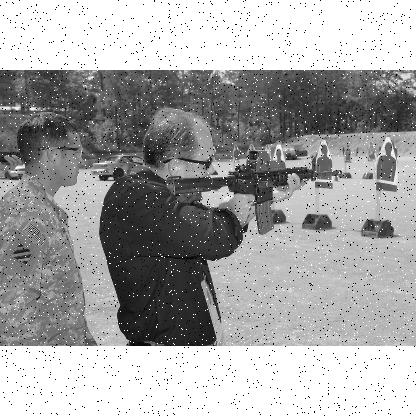gun: (166, 150, 340, 232)
